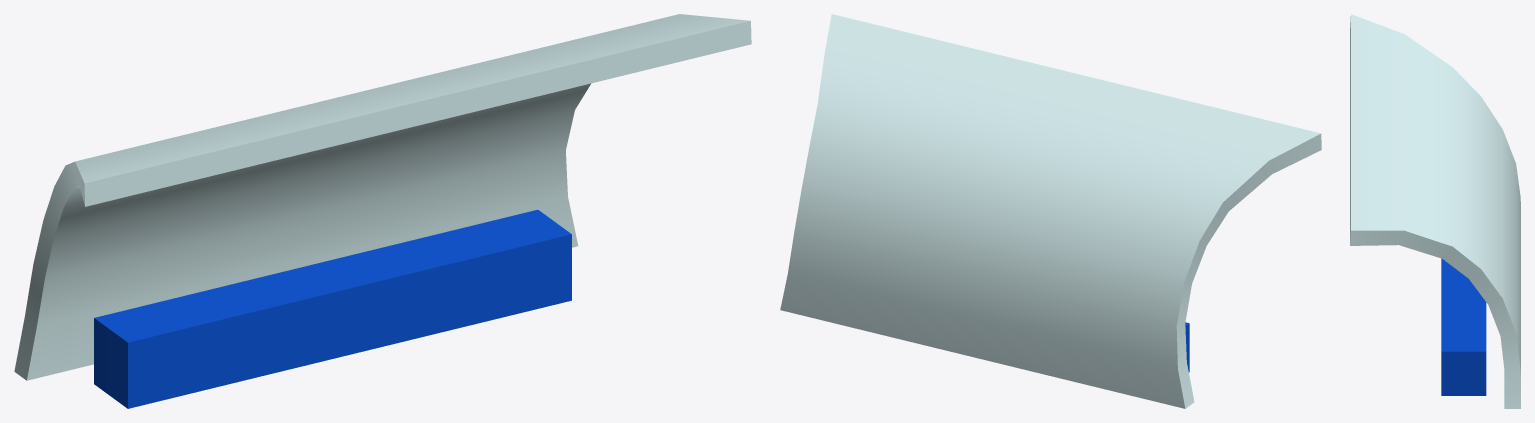
The model's file is STADIUM_Bench_Mesh.fbx.
3 views of the same model, side by side, from view 1: azimuth 30°, elevation 25°; view 2: azimuth 150°, elevation 25°; view 3: azimuth 270°, elevation 25° (orthographic). The views are drawn at different scales.
Parts seen in each view (by area): view 1: STADIUM_Bench_Mesh; view 2: STADIUM_Bench_Mesh; view 3: STADIUM_Bench_Mesh.
Part boxes in pixels (<box>): STADIUM_Bench_Mesh: <box>14,14,751,408</box>; STADIUM_Bench_Mesh: <box>780,14,1321,408</box>; STADIUM_Bench_Mesh: <box>1350,14,1520,408</box>.
Bounding box in the file's own units: 68.34 × 29.63 × 22.77.
